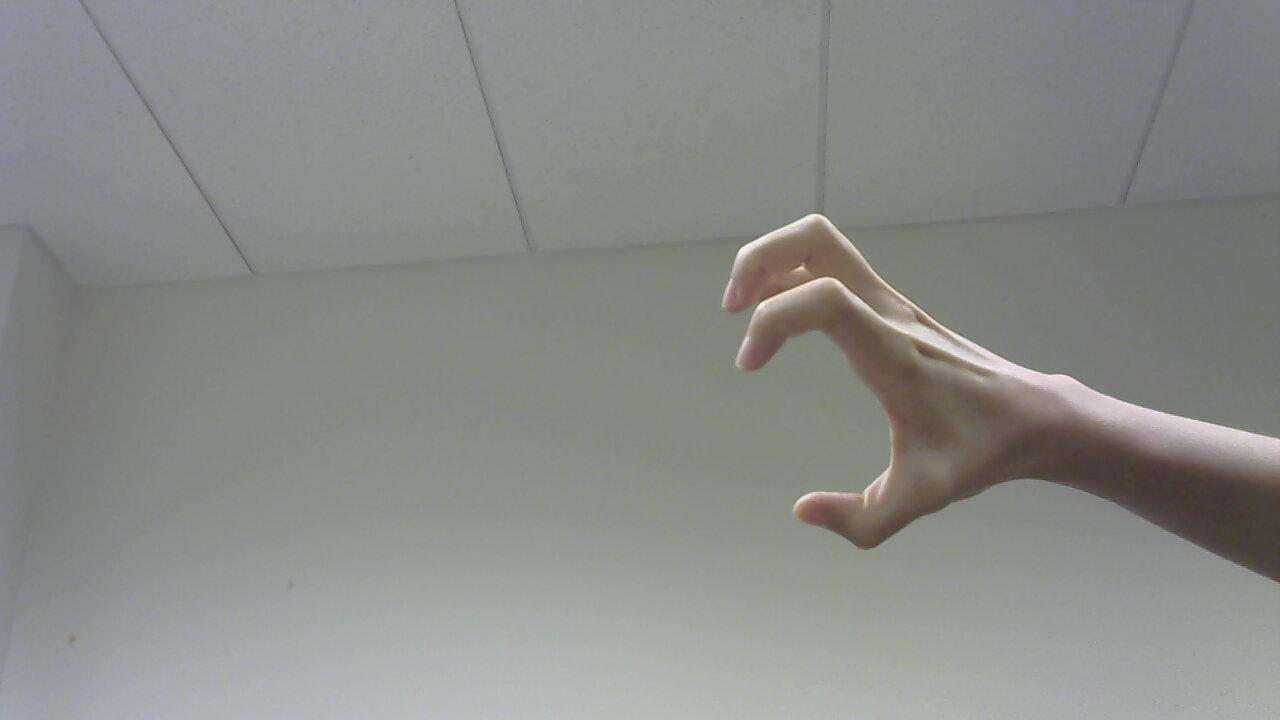hands: (716, 201, 1003, 556)
